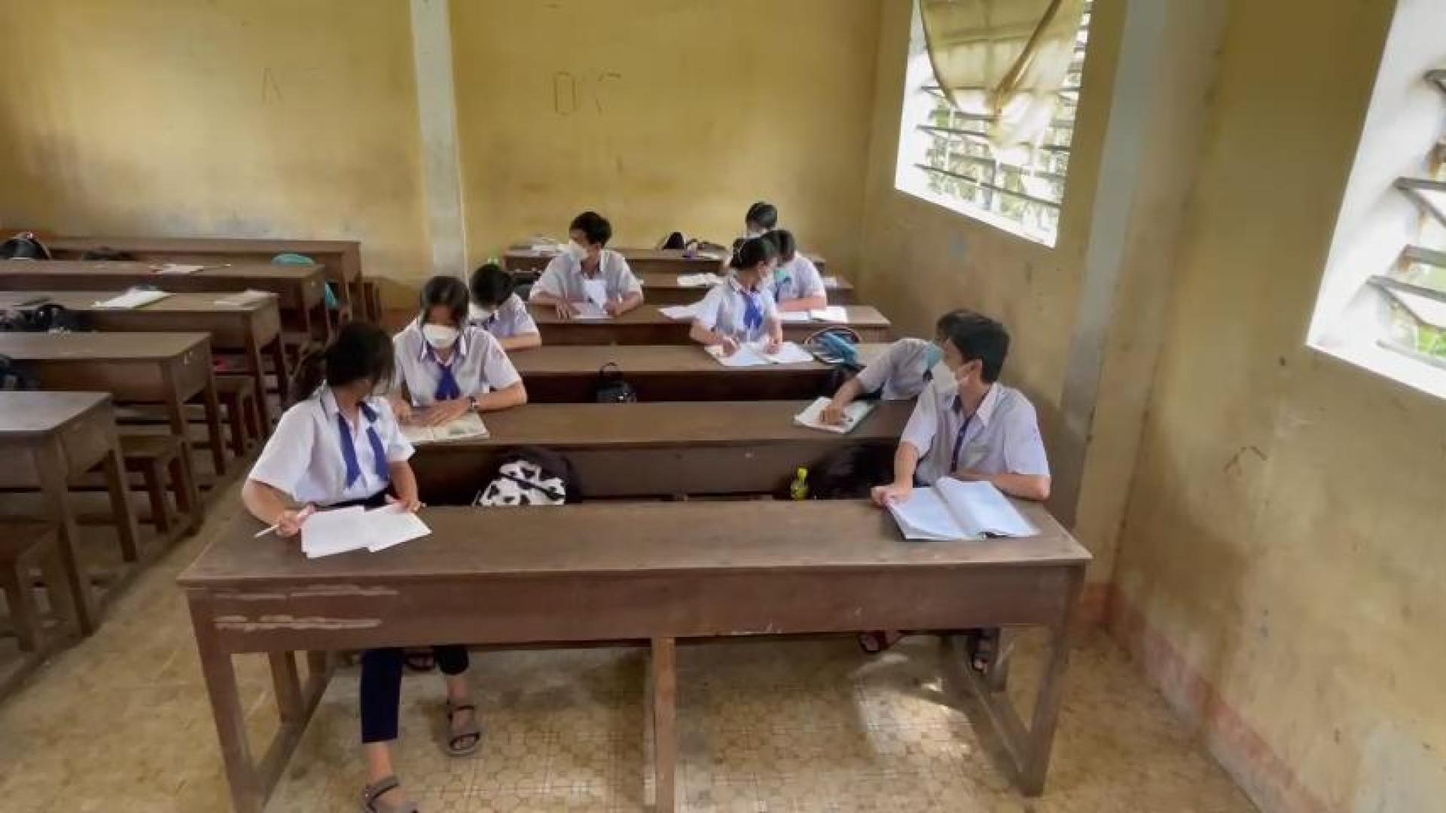Look Around: (298, 306, 395, 406), (924, 305, 1021, 405), (709, 232, 786, 295), (547, 207, 623, 269)
